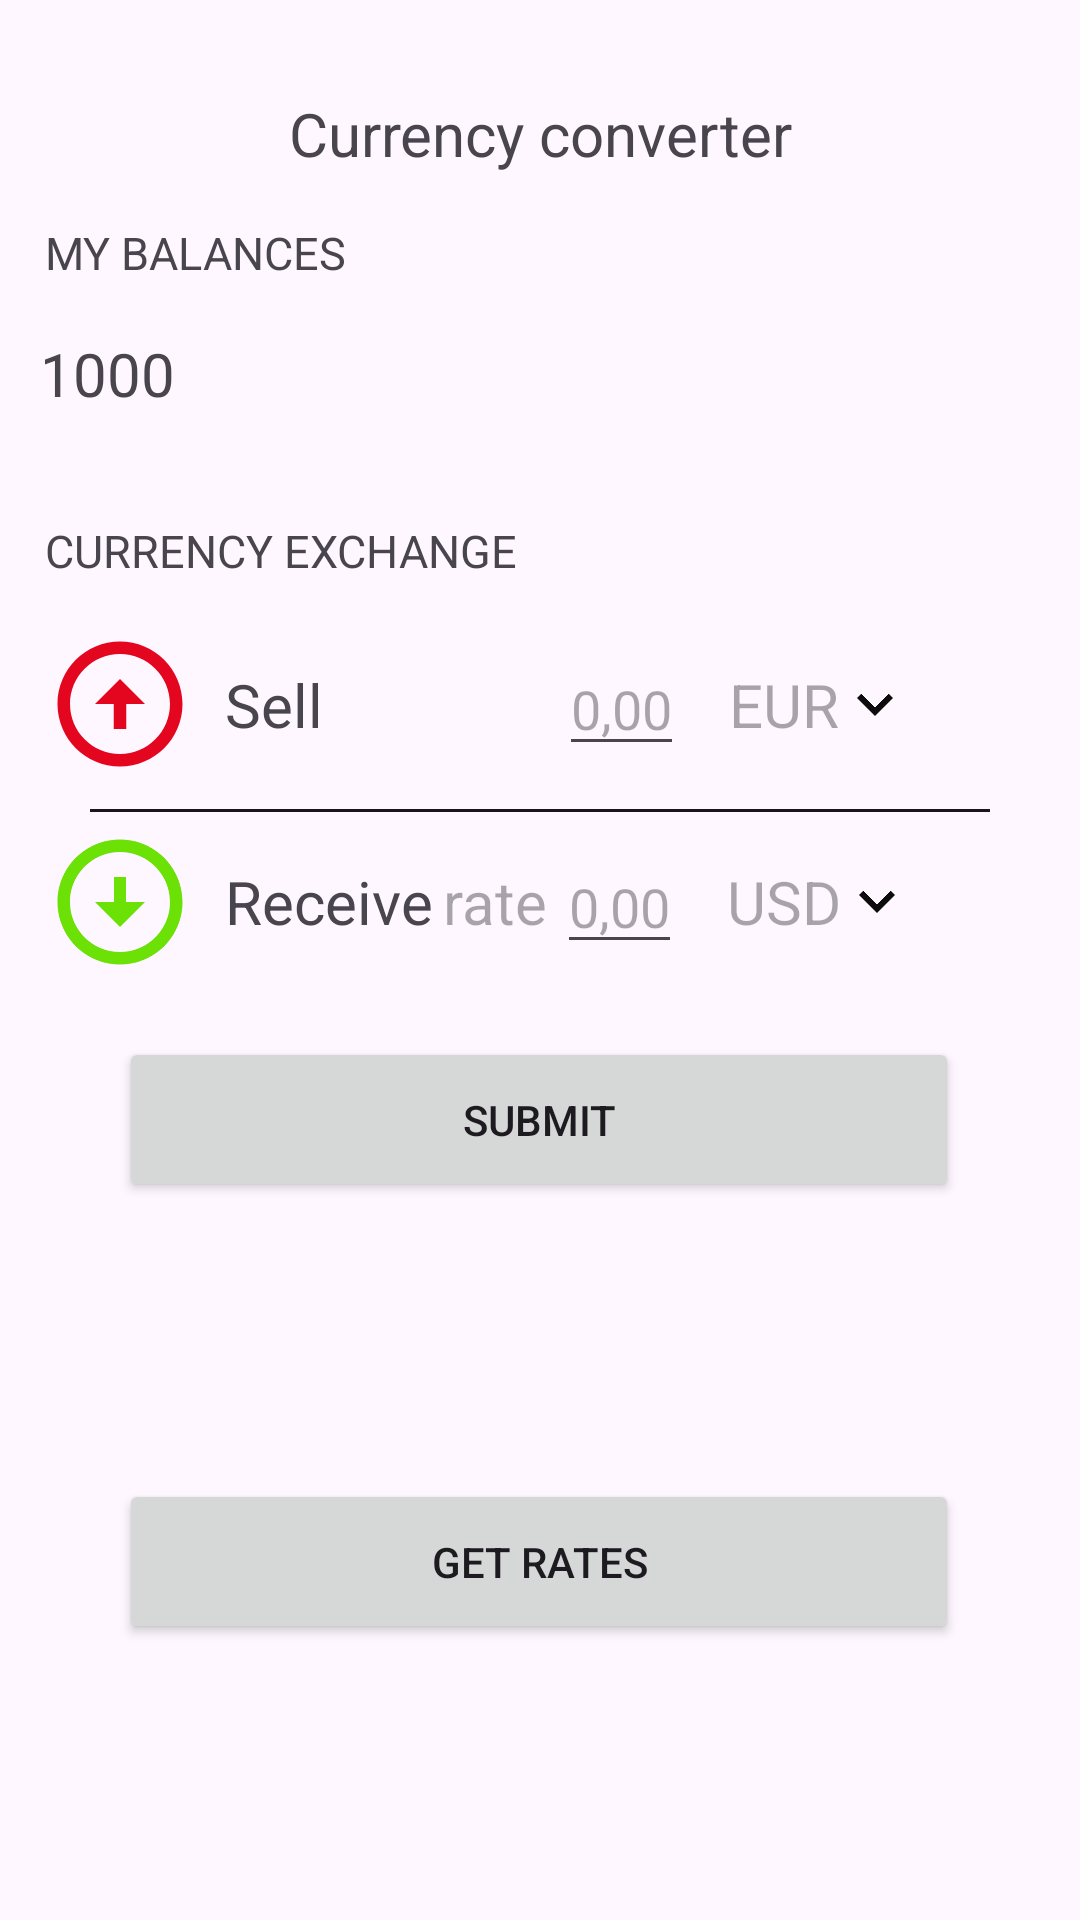

Point at icon controls on the screen. Image size 1080x1920, points as (x,y).
arrow circle down: (120,902)
arrow circle up: (120,704)
